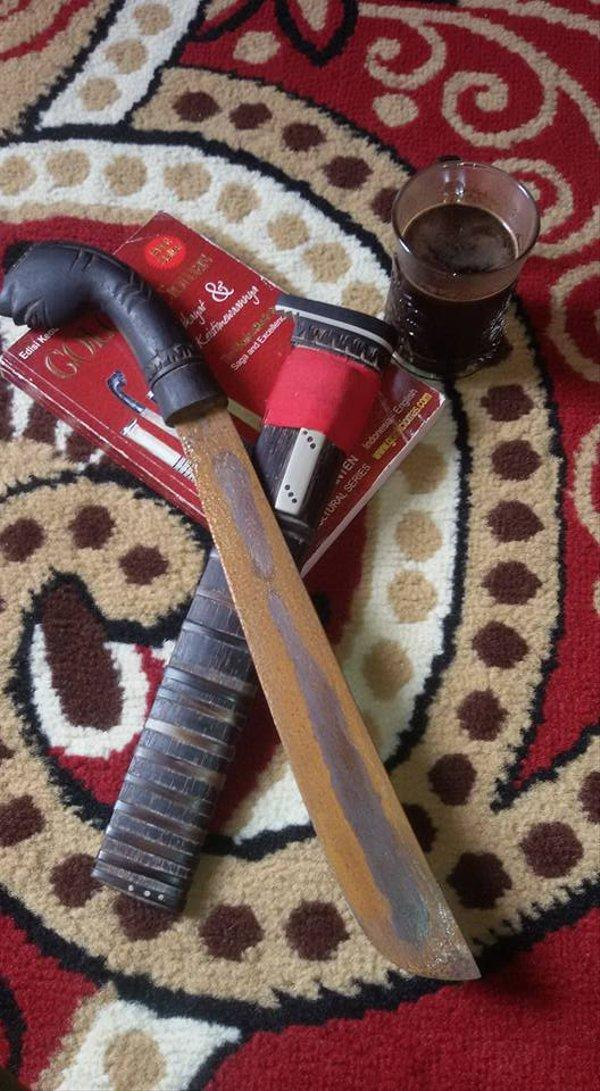facao: (149, 198, 549, 1091)
